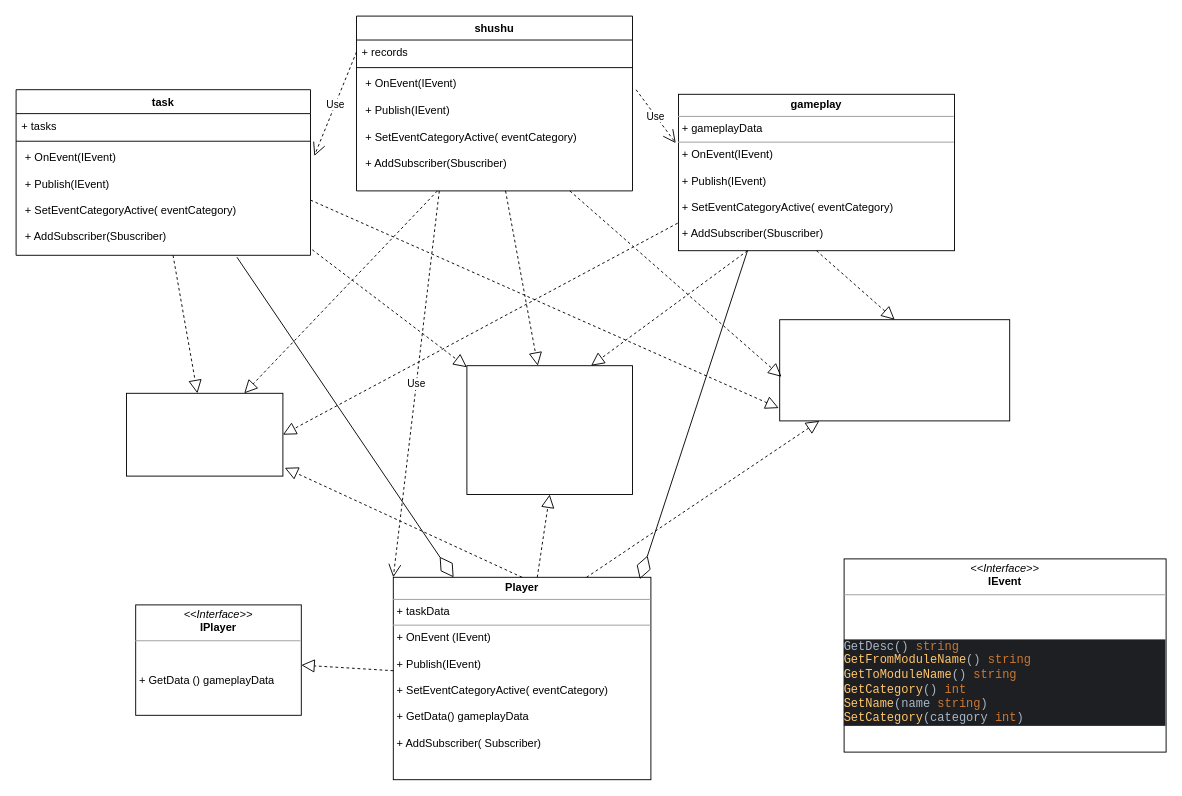
Some shapes in this 1182 by 796 pixel diagram are drawn without their labels. The centre of each missing label's shape, as x and y in pixels:
"<<Interface>> IModule + SetEventCategoryActive( eventCategory )" belongs at point (894, 370).
"<<Interface>> Publisher + AddSubscriber( Subscriber) + Publlsh(IEvent)" belongs at point (549, 429).
"<<Interface>> Subscriber + OnEvent(IEvent)" belongs at point (204, 434).
